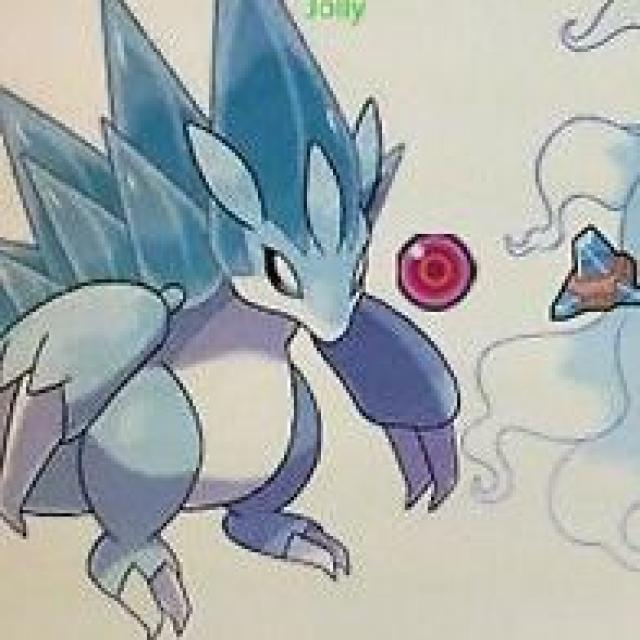Alolan: (6, 24, 402, 608)
